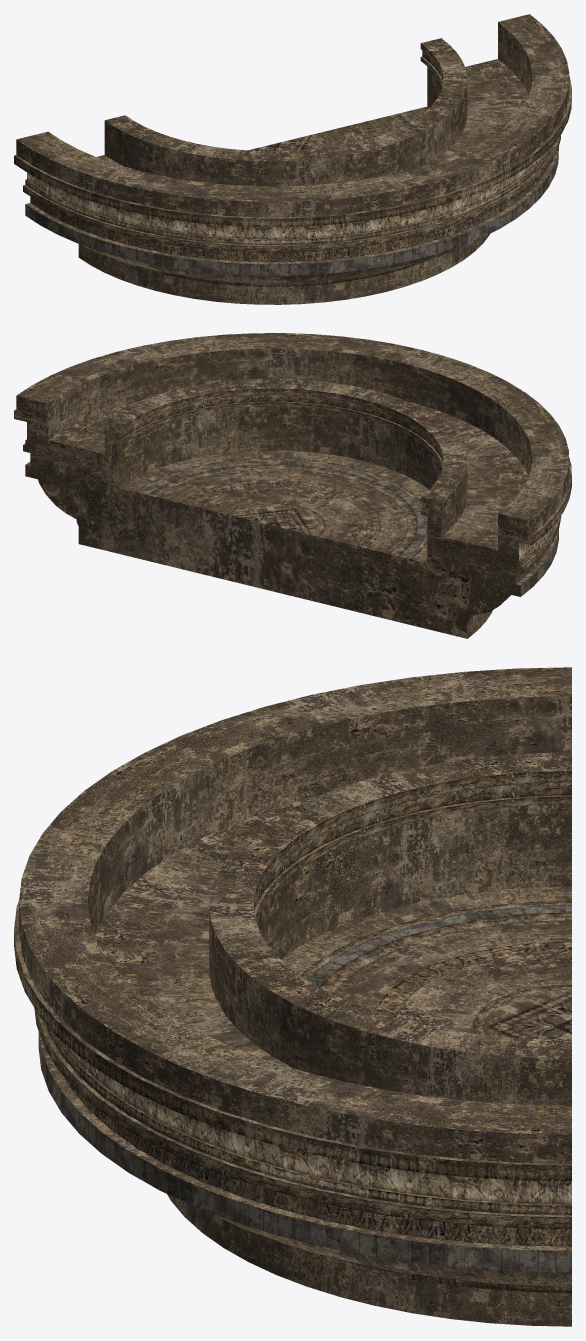
Rendered from materials_5_balcony_1.fbx.
3 views of the same model, one above another, from view 1: azimuth 30°, elevation 25°; view 2: azimuth 150°, elevation 25°; view 3: azimuth 270°, elevation 25° (orthographic). The views are drawn at different scales.
Parts seen in each view (by area): view 1: materials_5_balcony_1; view 2: materials_5_balcony_1; view 3: materials_5_balcony_1.
Part boxes in pixels (<box>): materials_5_balcony_1: <box>14,14,571,304</box>; materials_5_balcony_1: <box>14,333,571,638</box>; materials_5_balcony_1: <box>14,667,571,1326</box>.
Bounding box in the file's own units: 572 × 141 × 286.
